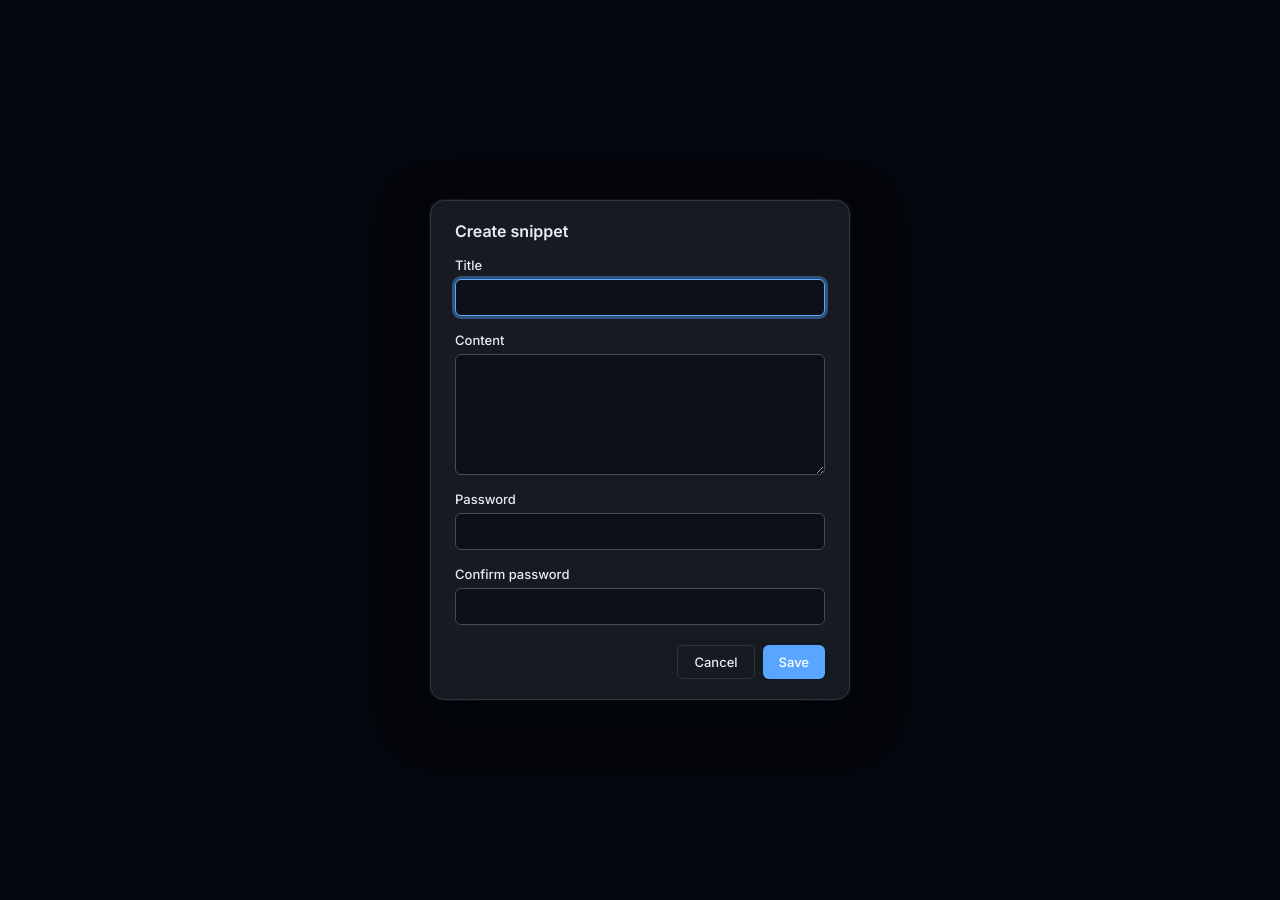
Test case: CreateSnippetModal › validates title min length 3 on save click
Type "ab" into the field labelled "Title".
click(640, 298); type("ab")  # box [455,279,825,316]
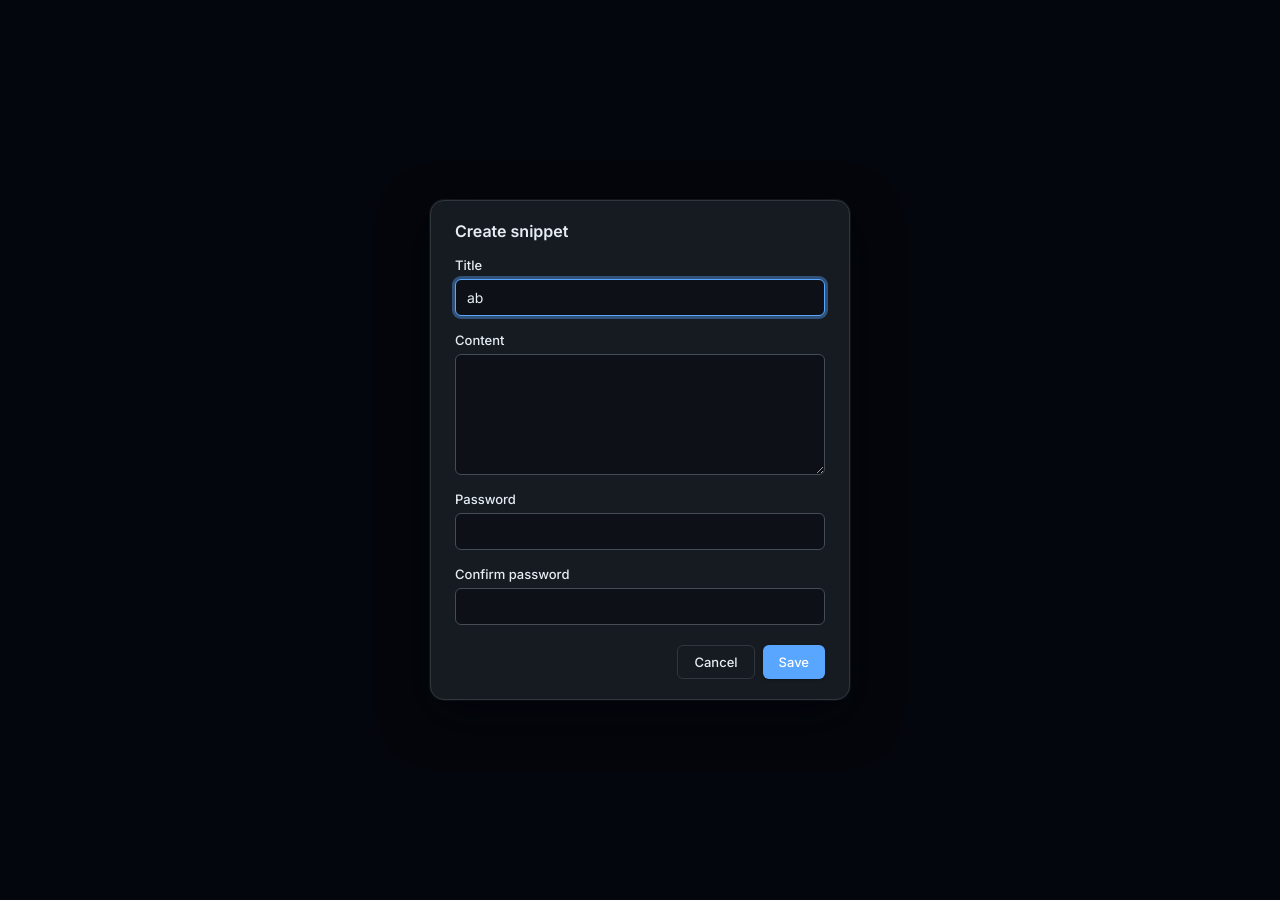
Fill valid content so only the title error fires
Type "some content" into the text box labelled "Content".
click(640, 415); type("some content")  # box [455,354,825,475]
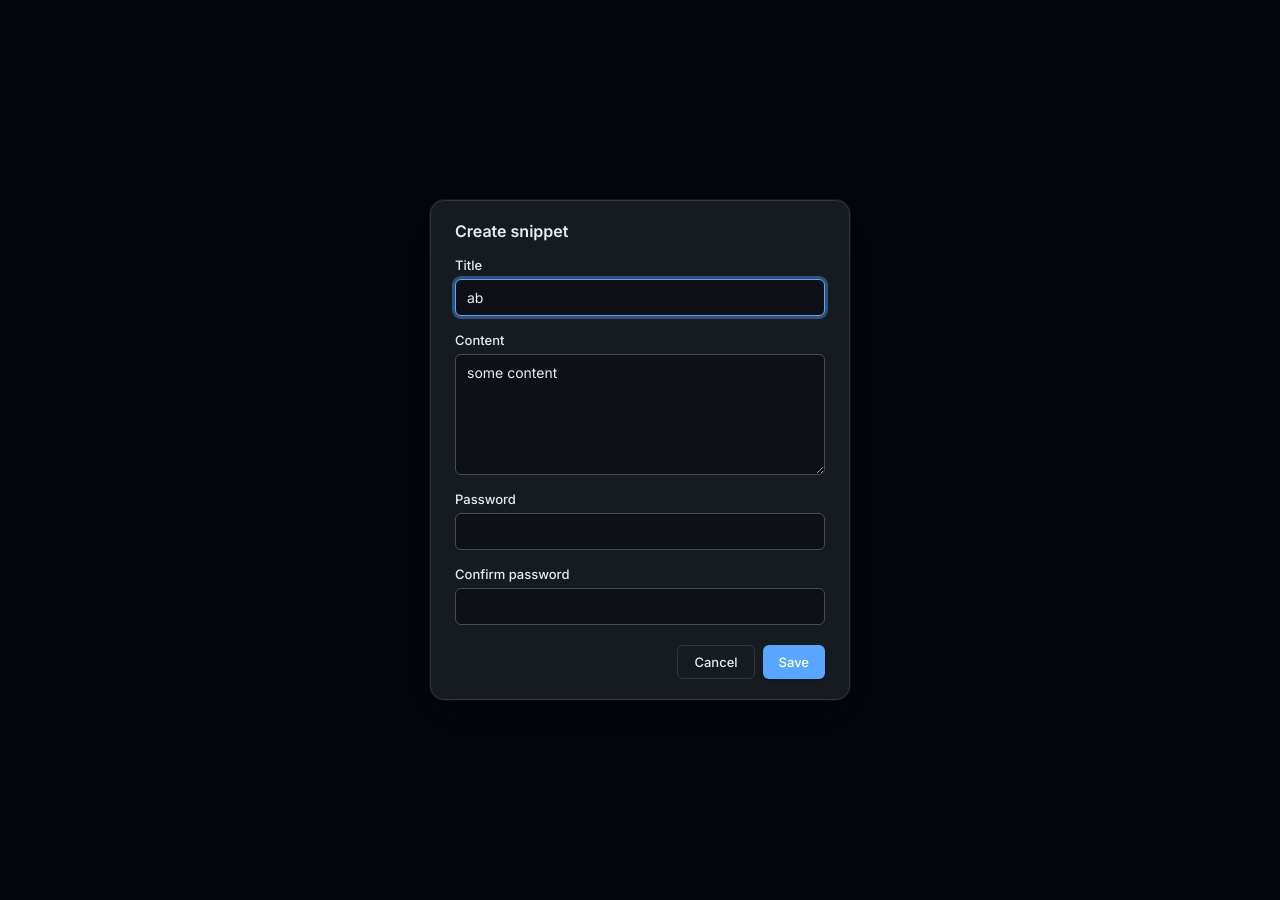
Click the button "Save".
click(794, 662)  # box [762,645,825,680]
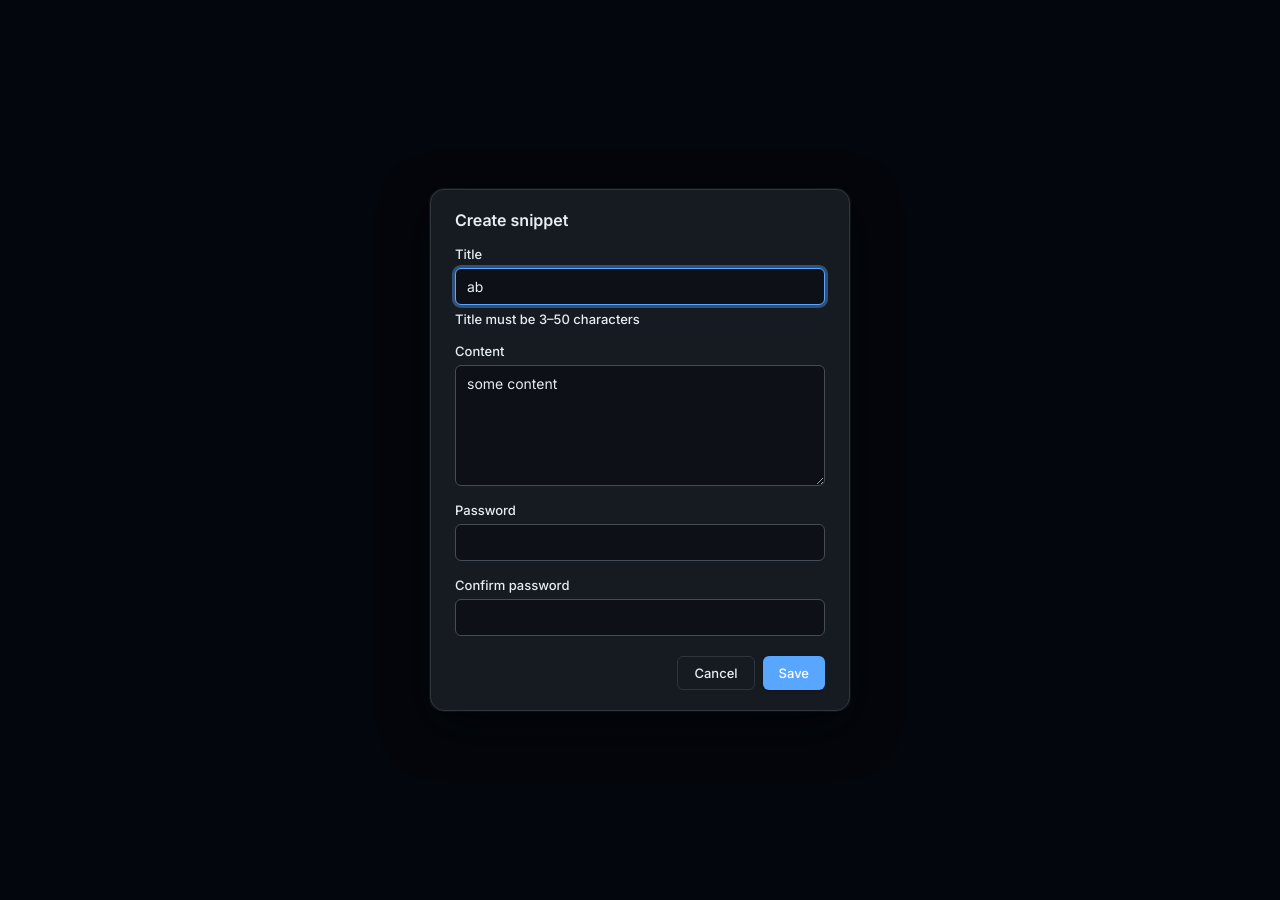
Check: the message "Title must be 3–50 characters" is shown, box [455,311,640,327]
